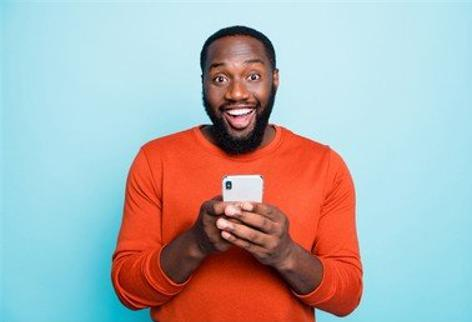Sober: (200, 34, 277, 137)
